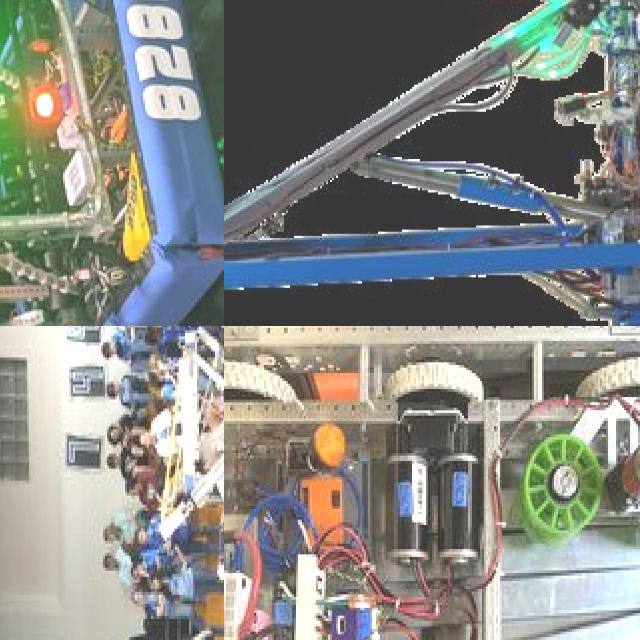FRC-Robots: (224, 0, 640, 326), (224, 326, 640, 640), (0, 0, 213, 326), (122, 326, 224, 609)
